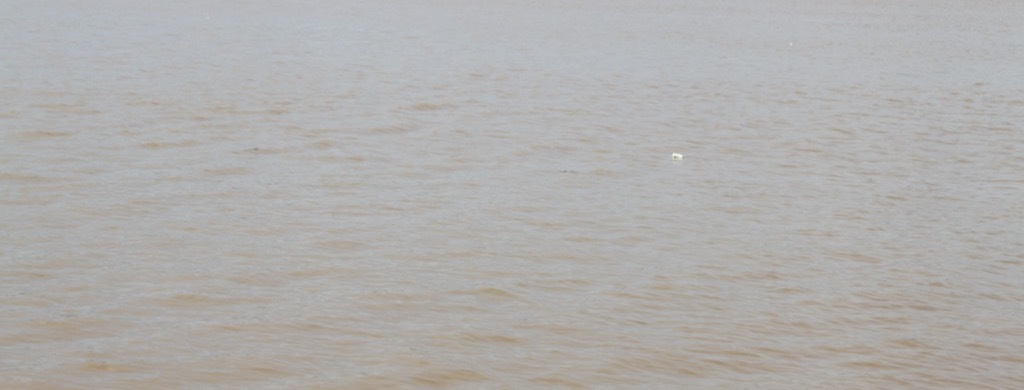plastic: (662, 140, 695, 175), (780, 33, 807, 58)
